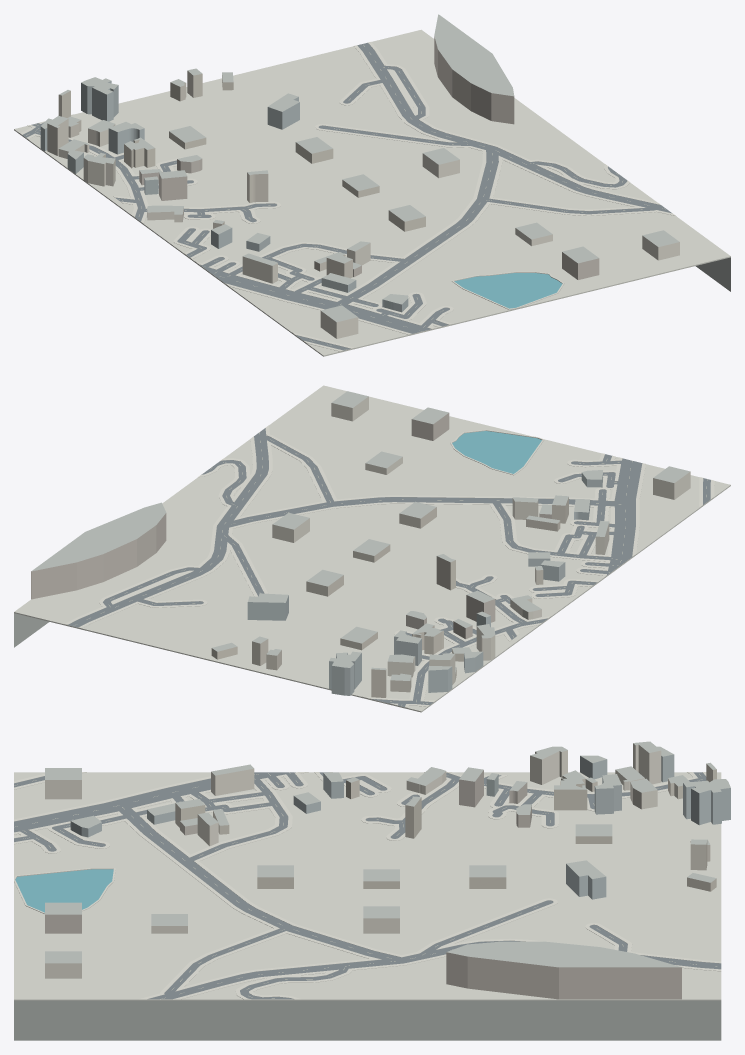
3 views of the same model, one above another, from view 1: azimuth 30°, elevation 25°; view 2: azimuth 150°, elevation 25°; view 3: azimuth 270°, elevation 25° (orthographic). The views are drawn at different scales.
Visible parts, largest first — view 1: city; view 2: city; view 3: city.
Part boxes in pixels (left/top/right/bottom): city: left=14, top=14, right=730, bottom=356; city: left=14, top=385, right=730, bottom=712; city: left=14, top=741, right=730, bottom=1040.
Size of the model in its own units: 380 by 57 by 507.
